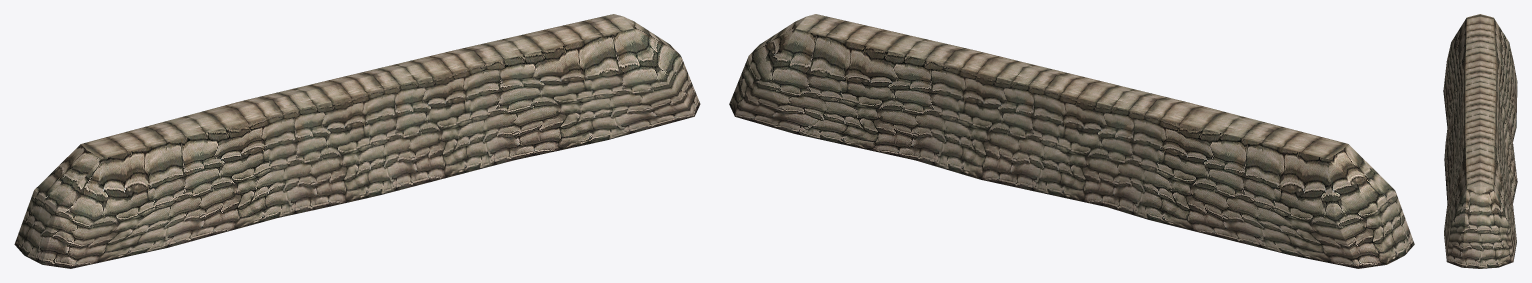
Rendered from sandbags.obj.
3 renders of one model, left to right at view 1: azimuth 30°, elevation 25°; view 2: azimuth 150°, elevation 25°; view 3: azimuth 270°, elevation 25°, orthographic. The views are drawn at different scales.
Visible parts, largest first — view 1: sandbags; view 2: sandbags; view 3: sandbags.
Part boxes in pixels (box(x1,y1,x2,y2)): sandbags: box(14, 14, 700, 268); sandbags: box(729, 14, 1414, 268); sandbags: box(1443, 14, 1517, 268).
Size of the model in its own units: 16.72 by 2.28 by 2.44.
